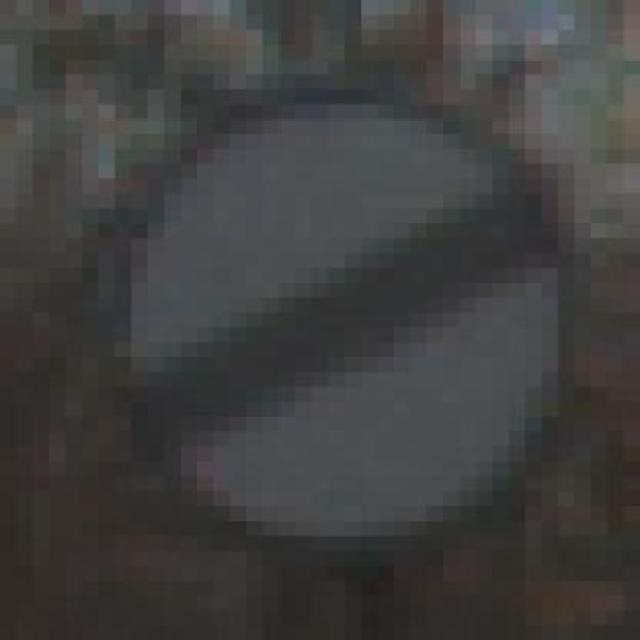End of all speed and passing limits: (115, 89, 574, 551)
